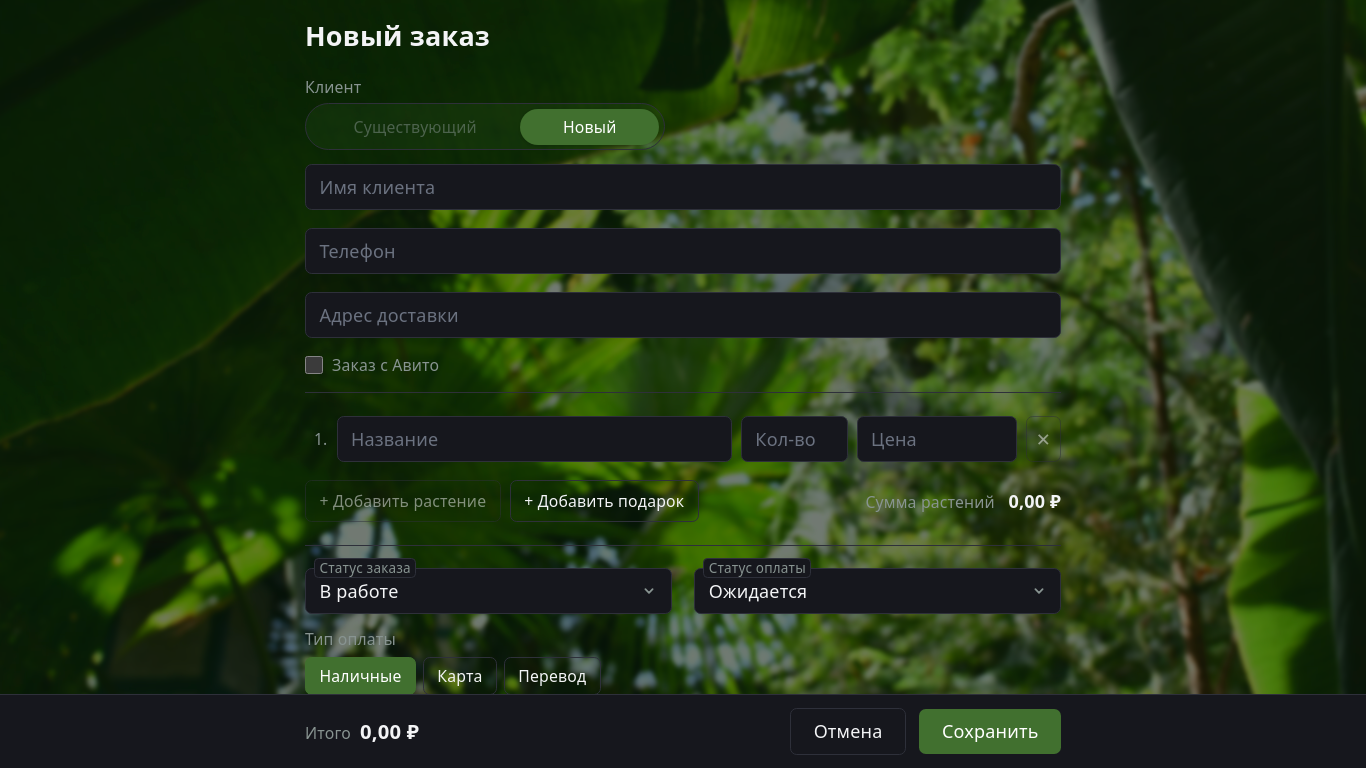
Test: NewOrderPage › requires a customer name in "new" mode
Expected: the field labelled "Имя клиента" is shown, [305,164,1061,210]
Step 1. Click the button "Сохранить" → (990, 731), box [920,709,1061,754]
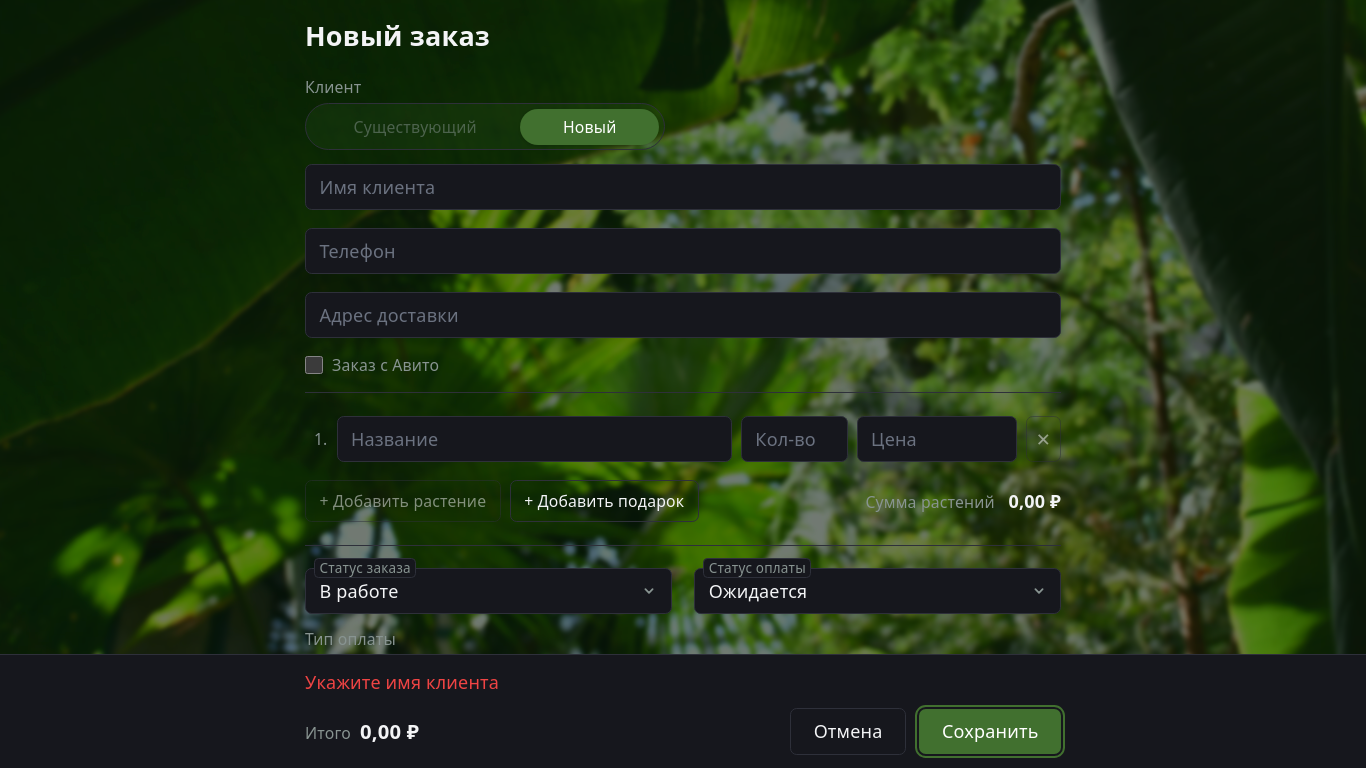
Result: the message reads "Укажите имя клиента" at [305,670,499,694]
